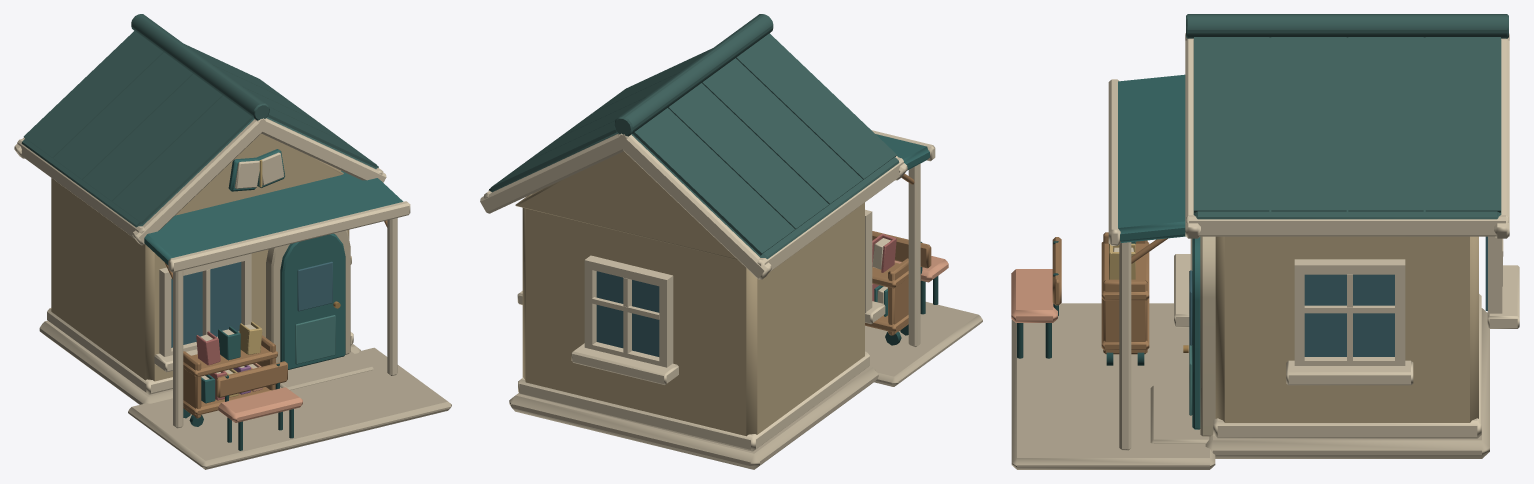
The model's file is bookshop_level_2.glb.
3 renders of one model, left to right at view 1: azimuth 30°, elevation 25°; view 2: azimuth 150°, elevation 25°; view 3: azimuth 270°, elevation 25°, orthographic. The views are drawn at different scales.
Parts seen in each view (by area): view 1: bookshop_level_2_runtime; view 2: bookshop_level_2_runtime; view 3: bookshop_level_2_runtime.
Boxes of the visible parts, <box> form: bookshop_level_2_runtime: <box>14,14,451,469</box>; bookshop_level_2_runtime: <box>480,14,982,469</box>; bookshop_level_2_runtime: <box>1011,14,1519,469</box>.
Size of the model in its own units: 3.2 by 3.48 by 4.25.
